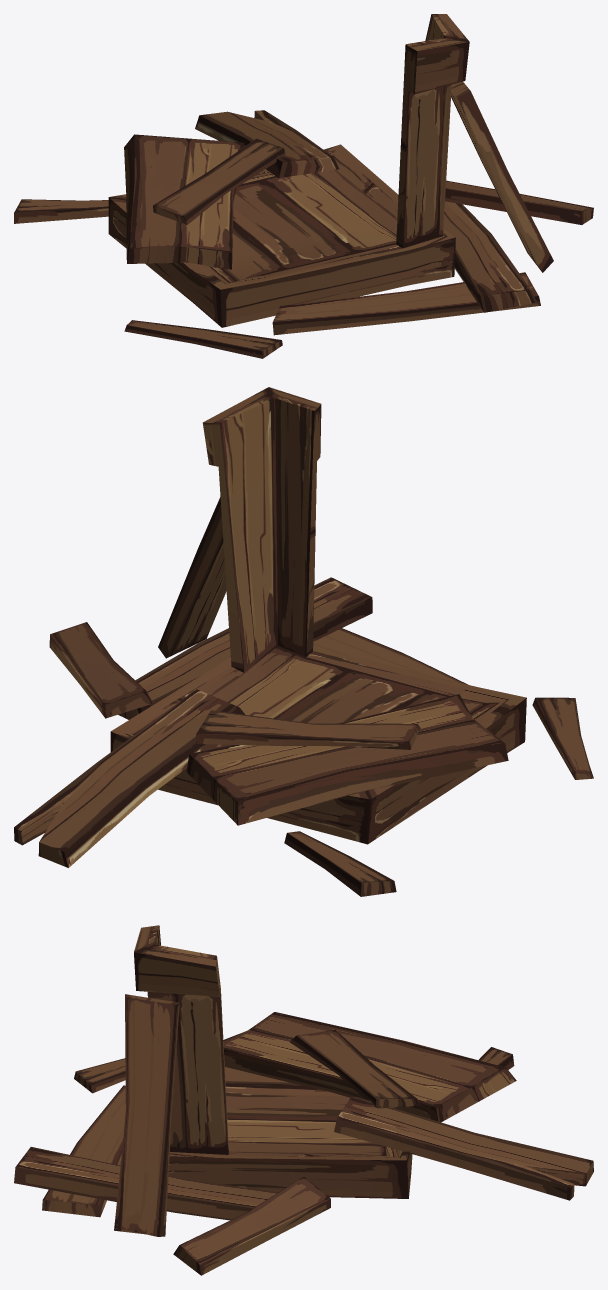
File: SM_PROP_box_dungeon_06.fbx
3 views of the same model, one above another, from view 1: azimuth 30°, elevation 25°; view 2: azimuth 150°, elevation 25°; view 3: azimuth 270°, elevation 25° (orthographic). The views are drawn at different scales.
Visible parts, largest first — view 1: SM_PROP_box_dungeon_06; view 2: SM_PROP_box_dungeon_06; view 3: SM_PROP_box_dungeon_06.
Part boxes in pixels (x1,y1,x2,y2): SM_PROP_box_dungeon_06: (14,14,593,358); SM_PROP_box_dungeon_06: (14,387,593,896); SM_PROP_box_dungeon_06: (14,925,593,1275).
Size of the model in its own units: 173 by 85.26 by 180.
